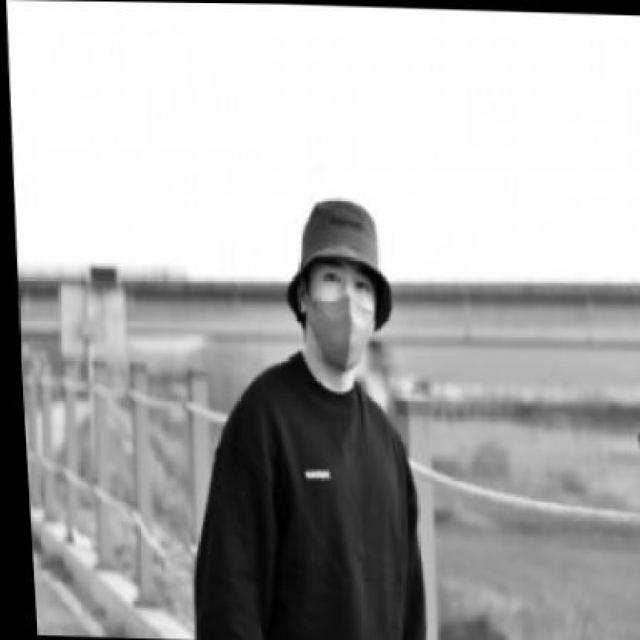hat: (273, 192, 395, 332)
